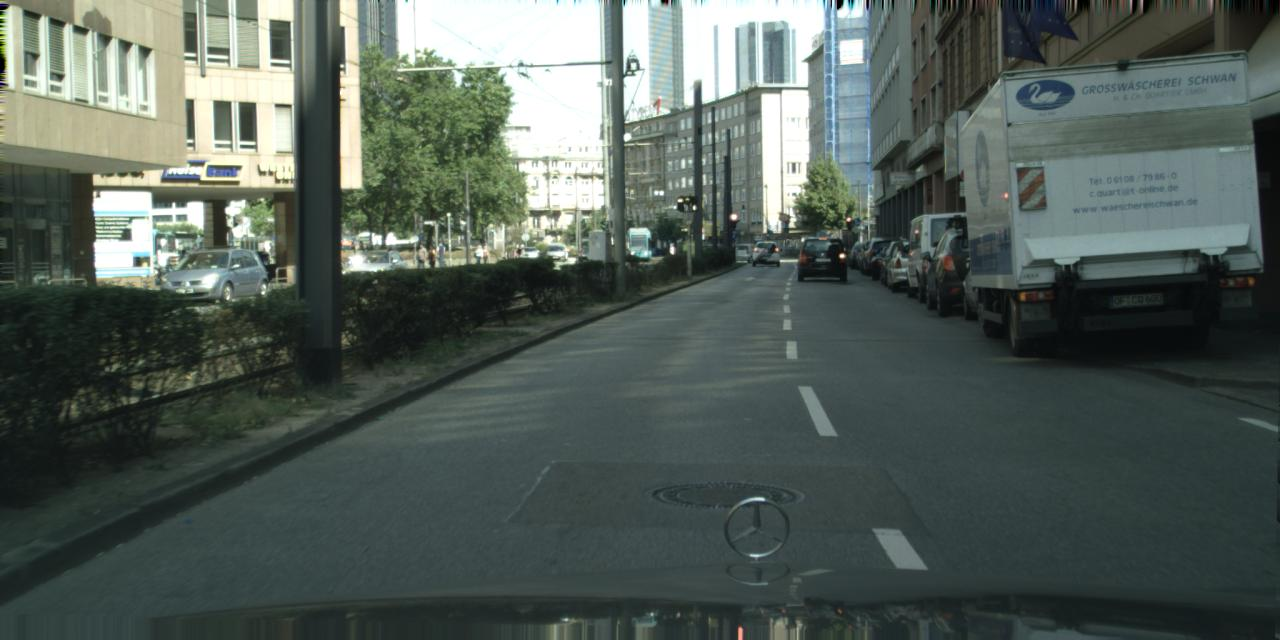ped: (417, 240, 447, 268), (502, 244, 525, 260), (473, 244, 489, 261)
